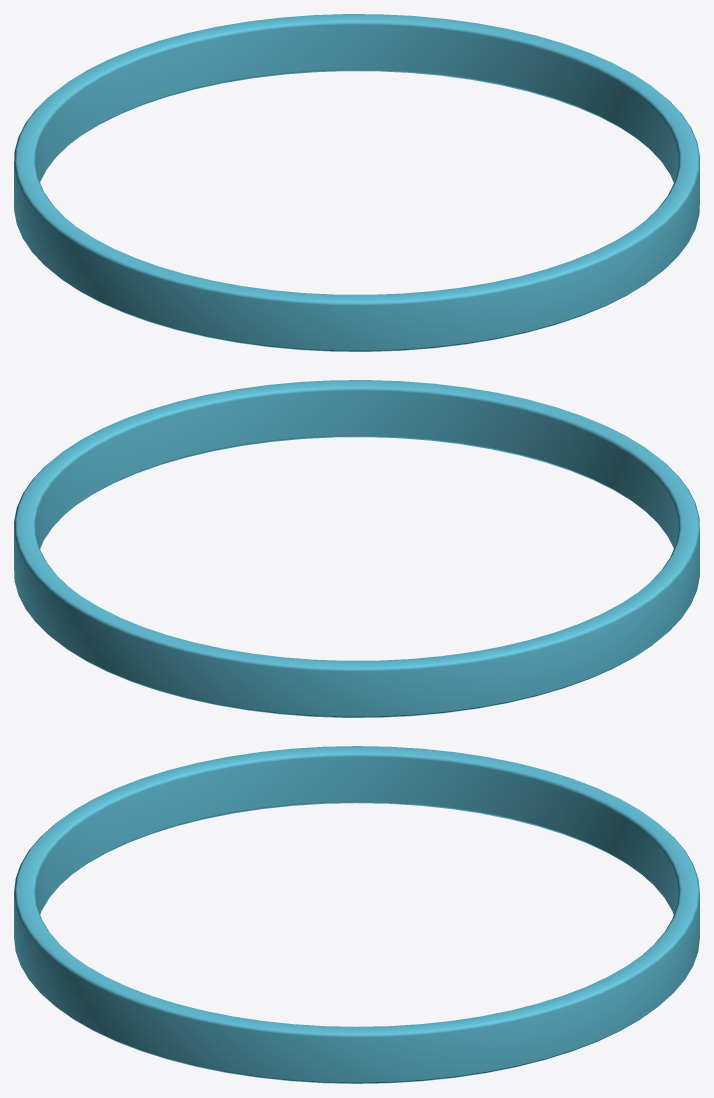
3 views of the same model, one above another, from view 1: azimuth 30°, elevation 25°; view 2: azimuth 150°, elevation 25°; view 3: azimuth 270°, elevation 25° (orthographic).
Visible parts, largest first — view 1: seal_body; view 2: seal_body; view 3: seal_body.
Part boxes in pixels (<box>): seal_body: <box>14,14,699,351</box>; seal_body: <box>14,380,699,717</box>; seal_body: <box>14,746,699,1083</box>.
Size of the model in its own units: 0.159 by 0.013 by 0.159.
